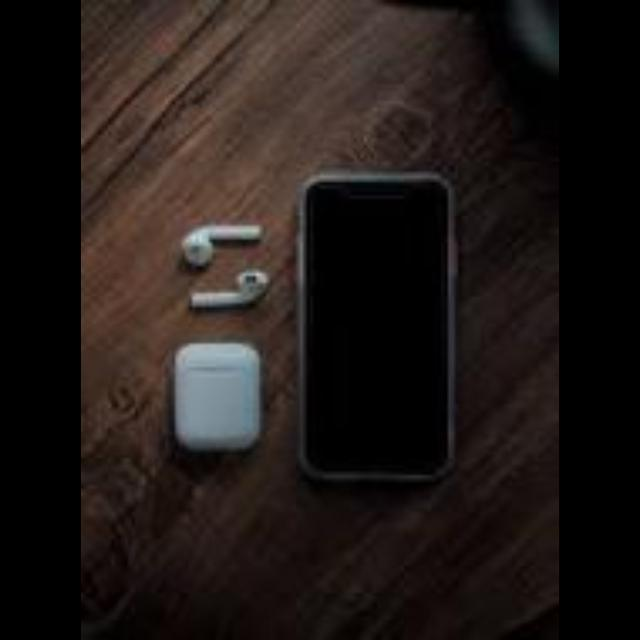Phone: (293, 173, 461, 482)
